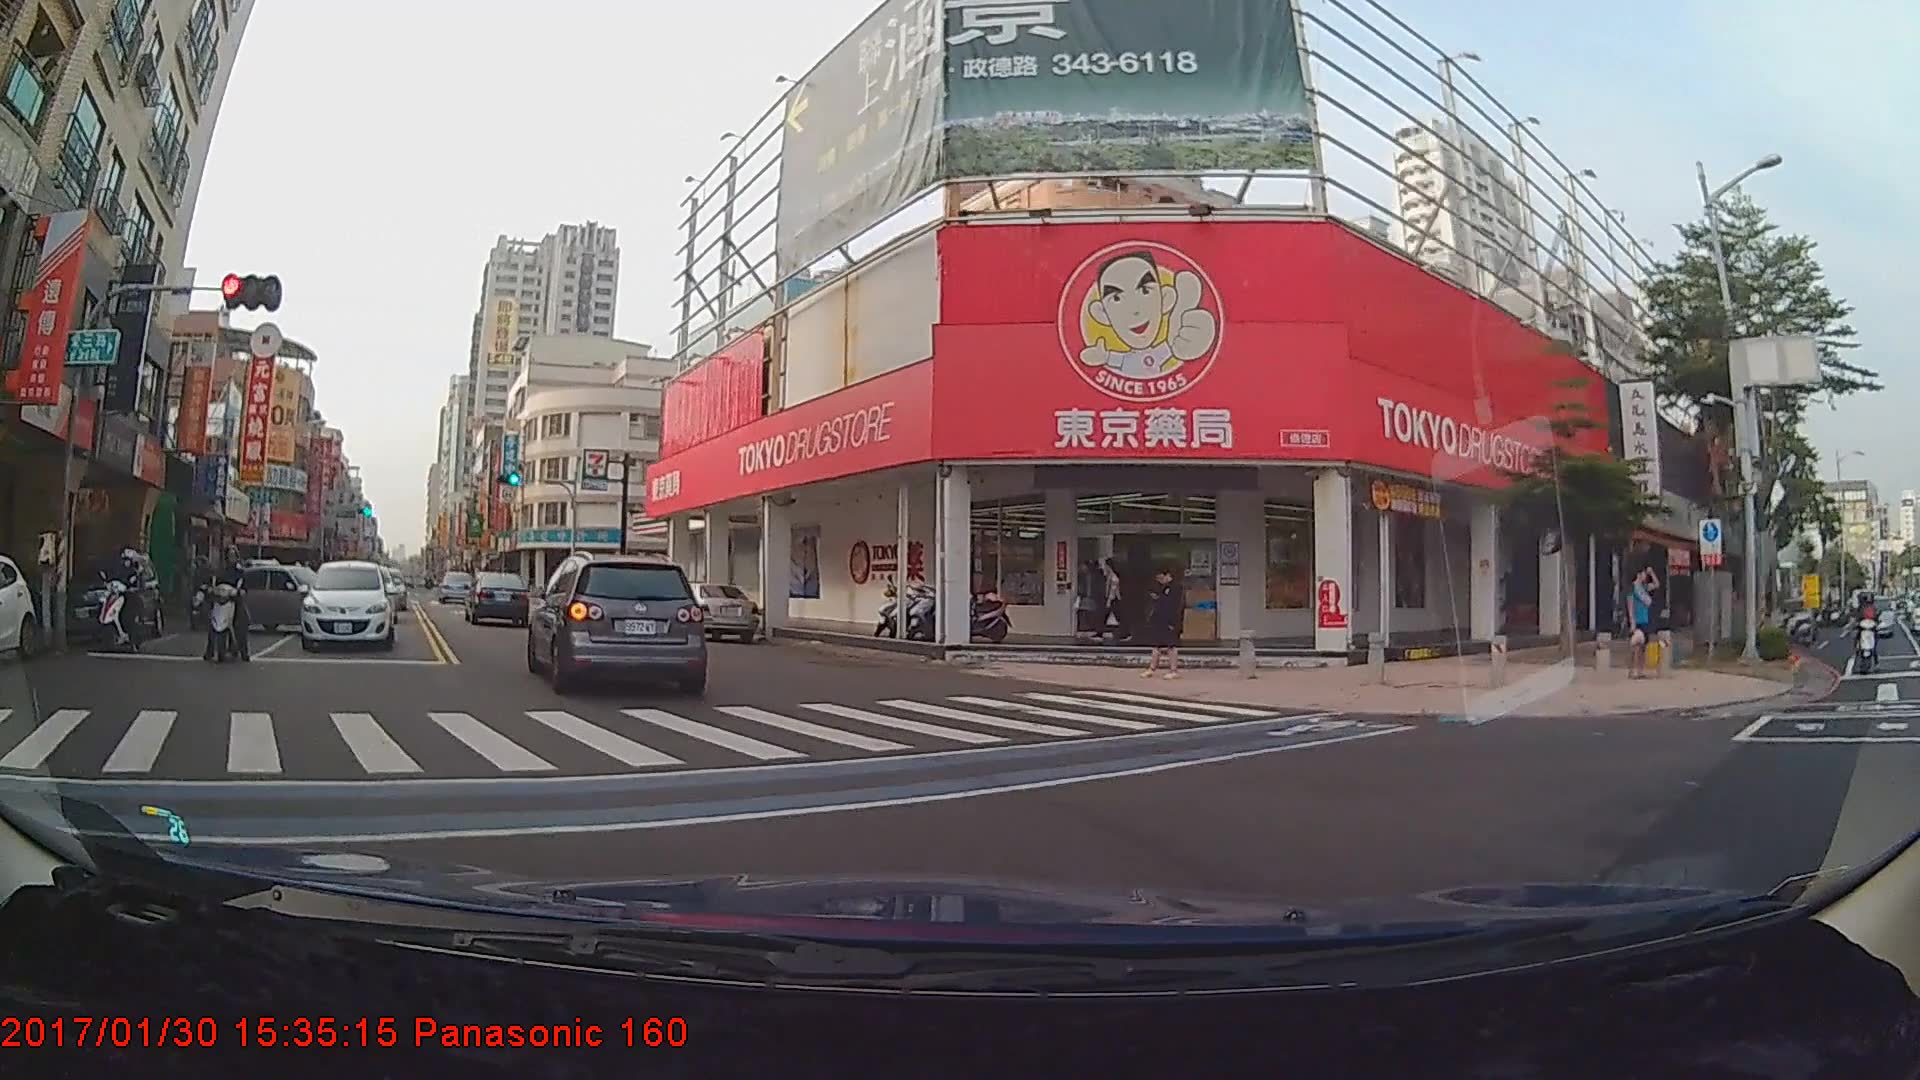pedestrian: (1143, 563, 1189, 681), (1624, 564, 1665, 681), (1074, 557, 1111, 639), (1102, 555, 1129, 644)
rider: (88, 549, 159, 658), (197, 539, 255, 658), (1848, 593, 1886, 674)
vehicle: (532, 556, 704, 693), (42, 543, 163, 642), (299, 559, 395, 651), (227, 563, 339, 632), (659, 581, 760, 643), (465, 572, 529, 627)
